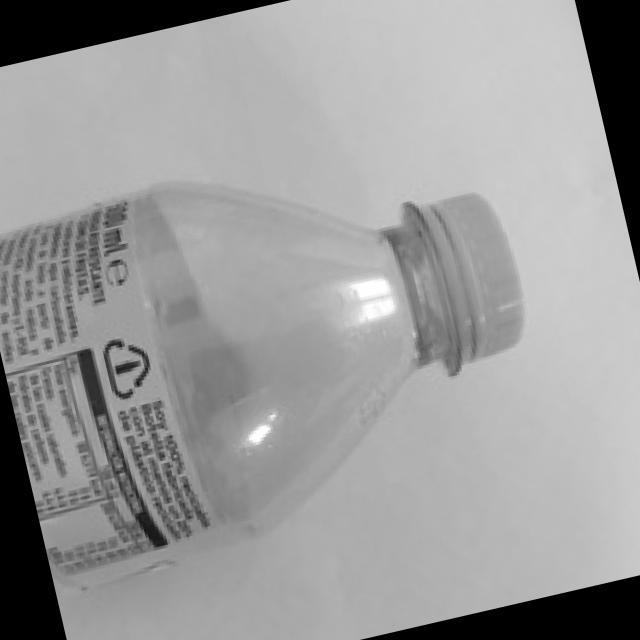good: (0, 91, 599, 598)
